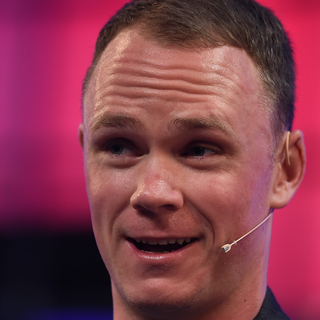eye: (175, 138, 228, 163), (96, 134, 146, 160)
